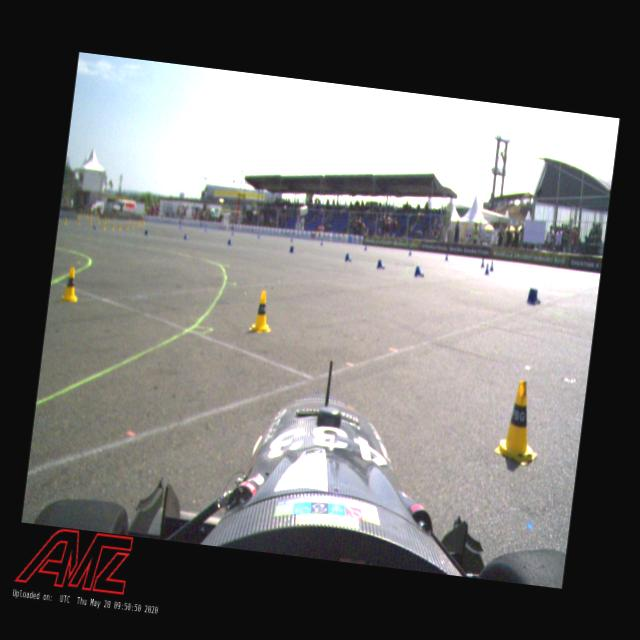blue_cone: (526, 287, 542, 306), (413, 265, 425, 278), (376, 258, 386, 271), (484, 262, 491, 276), (344, 253, 352, 263), (480, 255, 485, 268), (226, 238, 234, 246), (490, 260, 494, 272), (182, 234, 188, 239)
yellow_cone: (494, 377, 545, 468), (248, 288, 274, 336), (59, 266, 81, 304)
